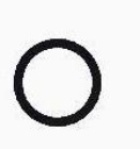RadioButton: (1, 1, 139, 148)
